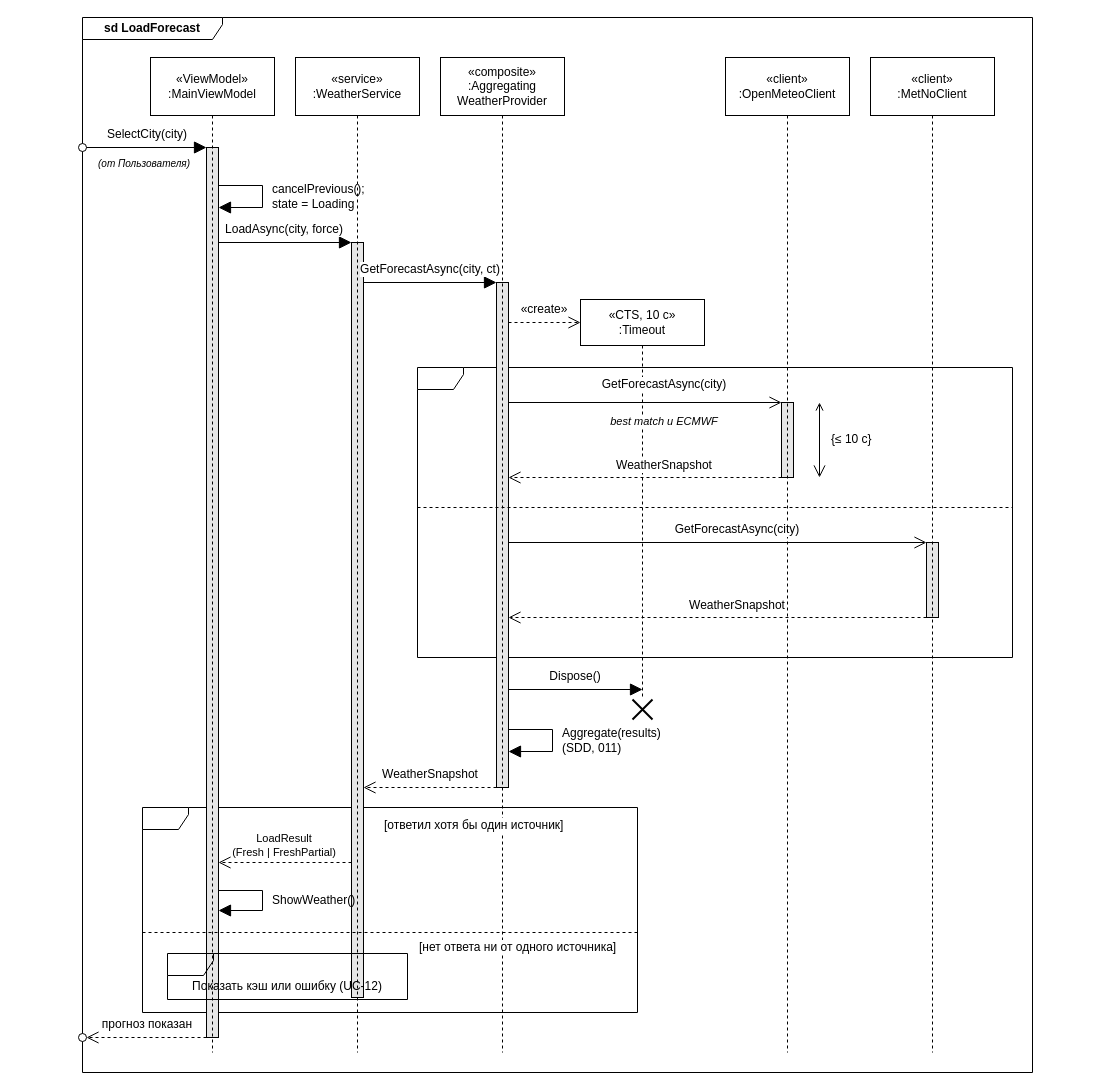
Some shapes in this 1106 by 1090 pixel diagram are drawn without their labels. Here are the shapes that lost their labels. From the top down, the box of each, then its label:
(416, 366, 1012, 658): par
(142, 806, 638, 1012): alt
(166, 952, 408, 1000): ref
